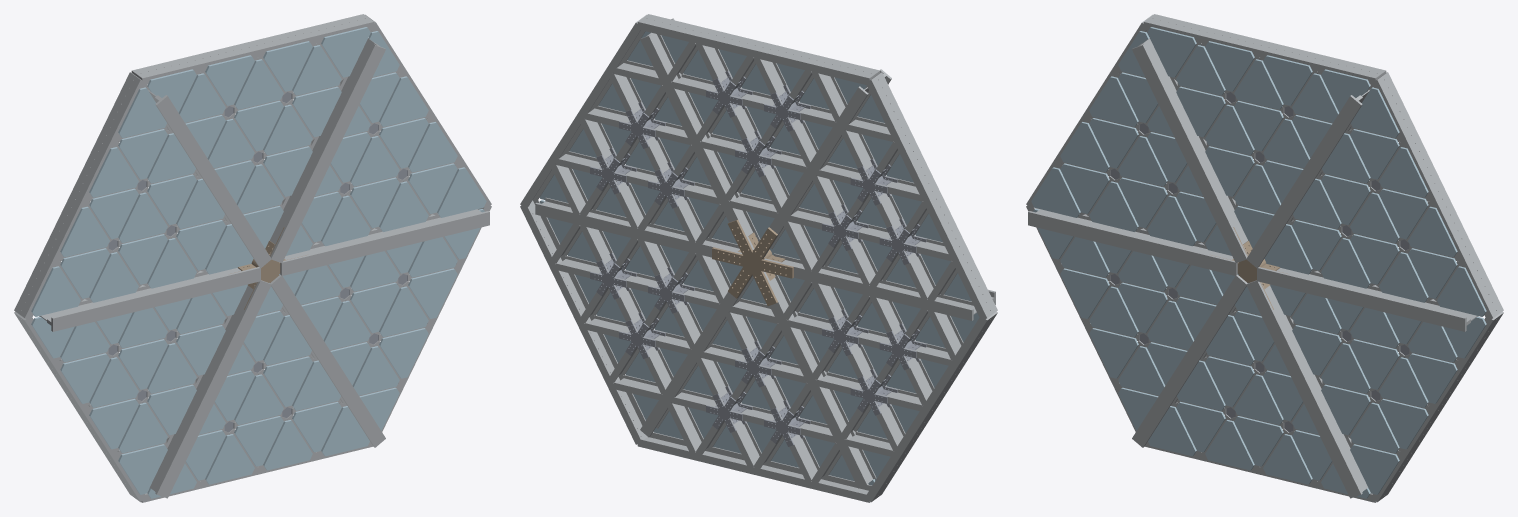
Rendered from A-02B_hexagon_panel.glb.
3 views of the same model, side by side, from view 1: azimuth 30°, elevation 25°; view 2: azimuth 150°, elevation 25°; view 3: azimuth 330°, elevation 25° (orthographic).
Visible parts, largest first — view 1: frame 3_2, frame 2_1, cap angle 2b_11, cap angle 5a_19, main rib 2_9, main rib 5_18, frame 4_3, cap angle 4a_16, cap angle 1b_8, cap angle 3b_14, cap angle 6a_22, main rib 4_15 (+98 smaller); view 2: frame 3_2, frame 2_1, frame 6_5, main rib 2_9, main rib 5_18, frame 5_4, main rib 4_15, main rib 1_6, frame 4_3, hub plate outer_25, frame 1_0, main rib 3_12 (+85 smaller); view 3: frame 1_0, frame 2_1, cap angle 3a_13, cap angle 6b_23, main rib 3_12, main rib 6_21, frame 6_5, cap angle 1b_8, cap angle 4a_16, cap angle 2a_10, cap angle 5b_20, main rib 1_6 (+98 smaller).
Boxes of the visible parts, x1,y1,x2,y2 form: frame 3_2: [14, 72, 146, 320]; frame 2_1: [131, 14, 374, 85]; cap angle 2b_11: [269, 42, 380, 260]; cap angle 5a_19: [155, 280, 265, 496]; main rib 2_9: [270, 38, 380, 261]; main rib 5_18: [150, 282, 266, 496]; frame 4_3: [14, 311, 146, 502]; cap angle 4a_16: [47, 267, 260, 324]; cap angle 1b_8: [280, 211, 489, 268]; cap angle 3b_14: [155, 97, 265, 267]; cap angle 6a_22: [270, 279, 379, 447]; main rib 4_15: [39, 268, 260, 325]; frame 3_2: [865, 72, 997, 320]; frame 2_1: [637, 14, 880, 85]; frame 6_5: [520, 199, 647, 444]; main rib 2_9: [640, 32, 760, 249]; main rib 5_18: [763, 271, 876, 488]; frame 5_4: [637, 432, 871, 502]; main rib 4_15: [764, 253, 995, 320]; main rib 1_6: [535, 197, 741, 257]; frame 4_3: [865, 311, 997, 502]; hub plate outer_25: [712, 219, 793, 306]; frame 1_0: [520, 14, 646, 208]; main rib 3_12: [763, 73, 886, 257]; frame 1_0: [1371, 72, 1503, 320]; frame 2_1: [1143, 14, 1386, 84]; cap angle 3a_13: [1137, 42, 1248, 260]; cap angle 6b_23: [1252, 280, 1362, 496]; main rib 3_12: [1137, 38, 1247, 261]; main rib 6_21: [1251, 282, 1367, 496]; frame 6_5: [1371, 311, 1503, 502]; cap angle 1b_8: [1257, 267, 1470, 324]; cap angle 4a_16: [1028, 211, 1237, 268]; cap angle 2a_10: [1252, 97, 1362, 267]; cap angle 5b_20: [1138, 279, 1247, 447]; main rib 1_6: [1257, 268, 1478, 325].
Size of the model in its own units: 4535 by 3937 by 425.
